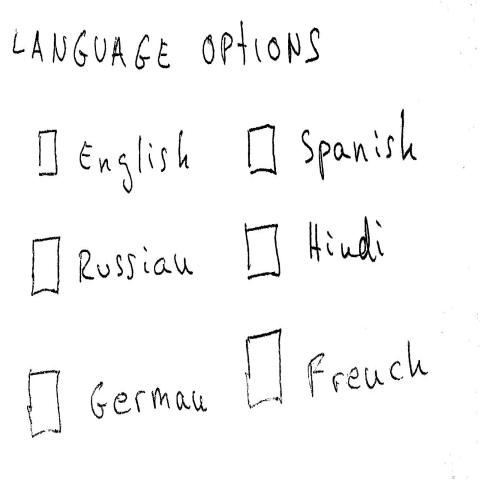Check Box: (245, 326, 433, 409), (26, 364, 209, 441), (248, 110, 420, 181), (30, 231, 197, 303), (37, 124, 193, 197), (244, 214, 388, 283)
